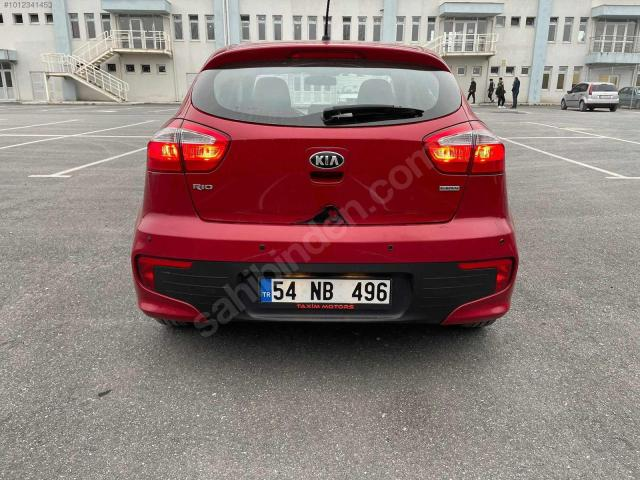plaka: (259, 278, 392, 305)
